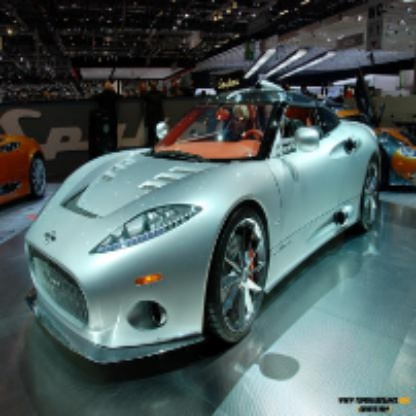Vehicle: (25, 74, 382, 369)
